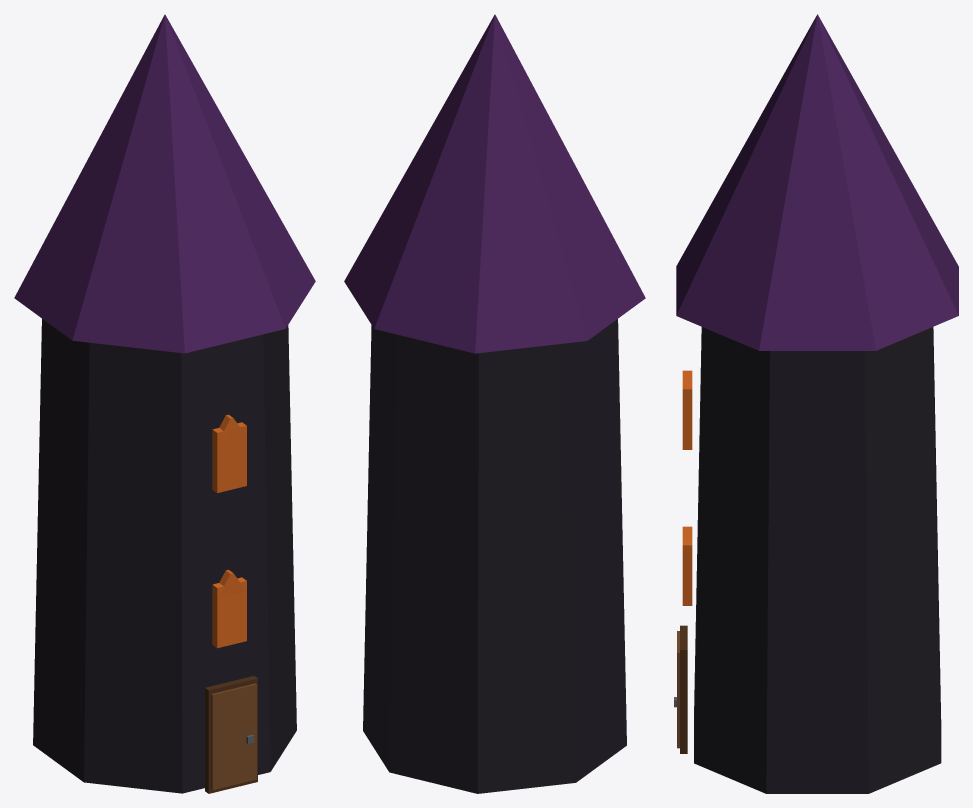
Rendered from demon_house_c_broken.glb.
3 renders of one model, left to right at view 1: azimuth 30°, elevation 25°; view 2: azimuth 150°, elevation 25°; view 3: azimuth 270°, elevation 25°, orthographic.
Parts seen in each view (by area): view 1: demon_house_c_piece2, demon_house_c_piece8, demon_house_c_piece11, demon_house_c_piece1, demon_house_c_piece4, demon_house_c_piece6, demon_house_c_piece0, demon_house_c_piece3, demon_house_c_piece5, demon_house_c_piece10; view 2: demon_house_c_piece3, demon_house_c_piece6, demon_house_c_piece4, demon_house_c_piece7, demon_house_c_piece2, demon_house_c_piece8, demon_house_c_piece13, demon_house_c_piece9, demon_house_c_piece10, demon_house_c_piece12; view 3: demon_house_c_piece2, demon_house_c_piece1, demon_house_c_piece10, demon_house_c_piece9, demon_house_c_piece4, demon_house_c_piece5, demon_house_c_piece13, demon_house_c_piece7, demon_house_c_piece12, demon_house_c_piece3, demon_house_c_piece6, demon_house_c_piece8.
Part boxes in pixels (x1=…): demon_house_c_piece2: x1=80, y1=14, x2=274, y2=399; demon_house_c_piece8: x1=33, y1=548, x2=253, y2=793; demon_house_c_piece11: x1=100, y1=408, x2=264, y2=579; demon_house_c_piece1: x1=200, y1=223, x2=310, y2=547; demon_house_c_piece4: x1=193, y1=520, x2=296, y2=793; demon_house_c_piece6: x1=14, y1=140, x2=99, y2=485; demon_house_c_piece0: x1=89, y1=342, x2=202, y2=541; demon_house_c_piece3: x1=36, y1=345, x2=104, y2=593; demon_house_c_piece5: x1=195, y1=399, x2=295, y2=668; demon_house_c_piece10: x1=273, y1=209, x2=315, y2=288; demon_house_c_piece3: x1=371, y1=276, x2=622, y2=630; demon_house_c_piece6: x1=399, y1=158, x2=645, y2=441; demon_house_c_piece4: x1=383, y1=589, x2=569, y2=793; demon_house_c_piece7: x1=365, y1=445, x2=487, y2=762; demon_house_c_piece2: x1=391, y1=14, x2=629, y2=267; demon_house_c_piece8: x1=508, y1=531, x2=626, y2=783; demon_house_c_piece13: x1=356, y1=191, x2=457, y2=405; demon_house_c_piece9: x1=365, y1=438, x2=405, y2=645; demon_house_c_piece10: x1=344, y1=242, x2=404, y2=452; demon_house_c_piece12: x1=363, y1=635, x2=375, y2=734; demon_house_c_piece2: x1=676, y1=14, x2=897, y2=330; demon_house_c_piece1: x1=676, y1=261, x2=845, y2=676; demon_house_c_piece10: x1=746, y1=259, x2=934, y2=496; demon_house_c_piece9: x1=780, y1=424, x2=935, y2=696; demon_house_c_piece4: x1=674, y1=514, x2=941, y2=793; demon_house_c_piece5: x1=682, y1=360, x2=831, y2=751; demon_house_c_piece13: x1=826, y1=170, x2=950, y2=402; demon_house_c_piece7: x1=876, y1=431, x2=940, y2=790; demon_house_c_piece12: x1=787, y1=666, x2=896, y2=793; demon_house_c_piece3: x1=928, y1=233, x2=958, y2=502; demon_house_c_piece6: x1=880, y1=126, x2=939, y2=261; demon_house_c_piece8: x1=677, y1=520, x2=697, y2=713.
Size of the model in its own units: 1.48 by 4.2 by 1.49.
